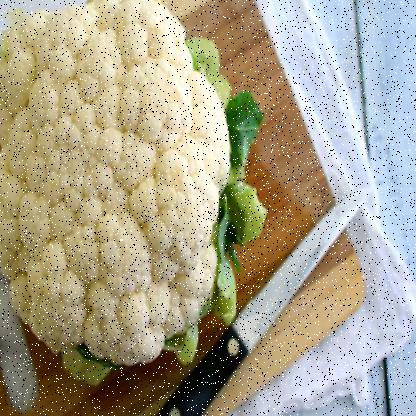cauliflower: (0, 4, 238, 355)
